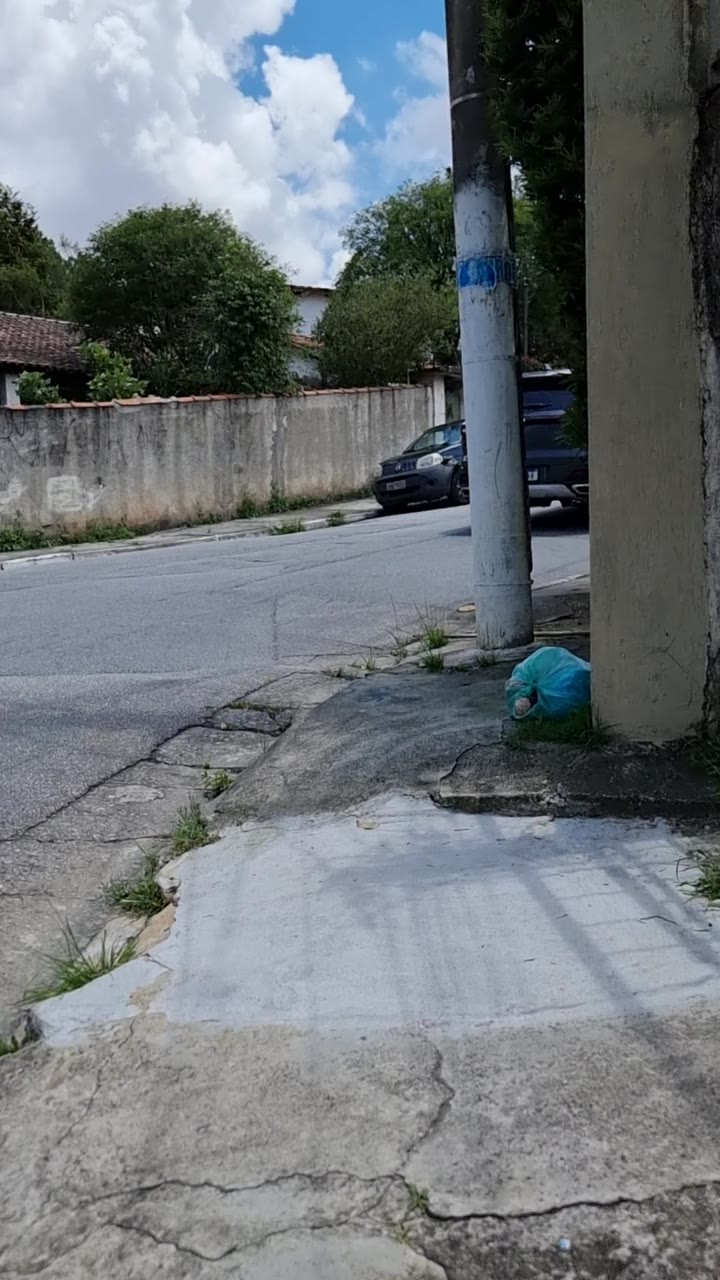desnivel: (36, 768, 720, 870)
obstaculo: (441, 0, 521, 651), (506, 647, 590, 720)
